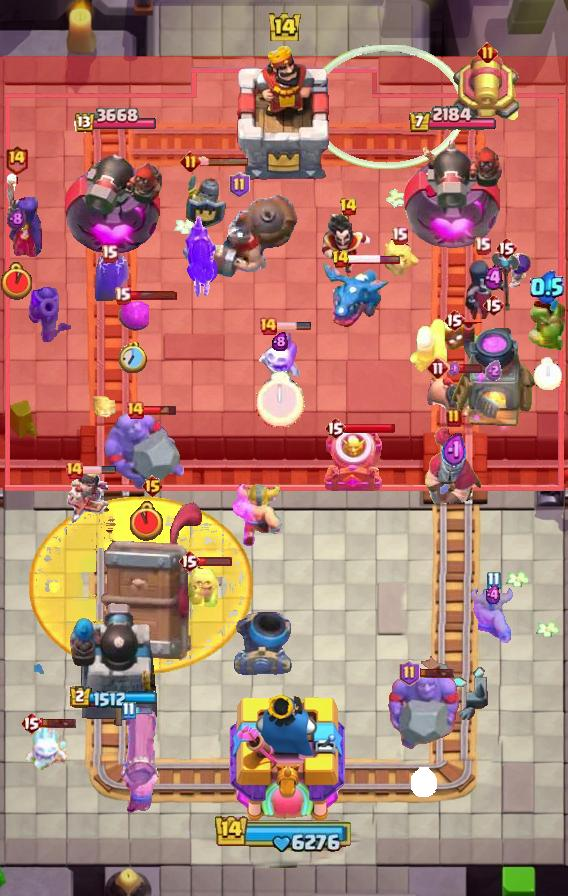bar: (344, 422, 396, 434), (347, 254, 401, 265), (198, 156, 250, 167), (128, 290, 178, 301), (40, 717, 77, 729), (418, 667, 455, 679), (143, 404, 178, 416), (448, 362, 483, 374), (197, 556, 233, 567), (81, 465, 117, 475), (276, 321, 312, 331), (133, 706, 153, 716)
bar-level: (4, 144, 29, 175), (426, 356, 450, 380), (141, 474, 164, 498), (399, 660, 420, 686), (229, 172, 250, 198), (20, 711, 42, 735), (178, 549, 200, 573), (324, 416, 346, 440), (443, 308, 465, 332), (482, 293, 504, 317), (495, 236, 517, 260), (180, 151, 201, 172), (477, 42, 498, 63), (64, 460, 84, 480), (125, 400, 145, 420), (258, 316, 278, 336), (331, 249, 350, 269), (339, 197, 358, 217), (114, 286, 131, 305), (101, 244, 118, 263), (474, 236, 491, 255), (391, 226, 408, 245), (446, 408, 462, 428), (121, 701, 136, 720), (486, 571, 501, 590)
bomber-evolution: (181, 205, 217, 299)
cannoneer-tower: (400, 132, 507, 256), (69, 599, 159, 731), (64, 138, 164, 256)
clock: (256, 371, 305, 428), (130, 501, 163, 541), (1, 262, 32, 300), (533, 357, 562, 390), (119, 342, 147, 373), (411, 767, 437, 797)
electro-dragon: (320, 260, 390, 328)
electro-spirit: (89, 251, 129, 301)
electro-wizard: (319, 214, 377, 278)
elite-barbarian: (232, 481, 283, 547), (471, 587, 515, 643)
elixir: (530, 270, 564, 304), (442, 432, 467, 470), (484, 265, 503, 291), (7, 207, 26, 231), (484, 585, 503, 605), (485, 360, 502, 381), (272, 332, 288, 351), (448, 361, 461, 377)
elixir-golem-small: (117, 301, 149, 331)
fire-spirit: (438, 320, 470, 352)
firecracker: (407, 316, 449, 374)
goblin-brawler: (524, 300, 568, 352)
guard: (184, 167, 226, 231)
heal-spirit: (185, 560, 223, 608), (377, 236, 421, 276)
ice-spirit: (22, 723, 70, 771)
ice-spirit-evolution: (259, 330, 301, 380)
king-tower: (223, 689, 345, 826), (230, 43, 338, 181)
king-tower-bar: (214, 813, 354, 853)
lava-pup: (93, 390, 119, 418)
mortar: (232, 611, 292, 675)
mortar-evolution: (321, 425, 385, 495)
musketeer: (26, 286, 76, 342)
night-witch: (463, 248, 523, 322)
princess: (67, 468, 111, 528)
royal-hog: (427, 373, 481, 423)
skeleton-evolution: (508, 252, 534, 288)
tower-bar: (408, 106, 498, 134), (72, 108, 156, 135), (70, 686, 159, 709)
witch: (0, 171, 46, 259)
